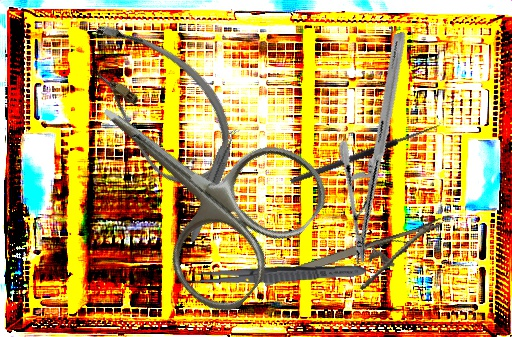Cannula: (51, 4, 257, 202)
Dressing Forceps: (186, 261, 369, 289)
Hook Surgical: (286, 113, 443, 186)
Iris Scissors: (49, 41, 340, 324)
Needle Holder: (288, 31, 471, 265), (261, 217, 455, 317)
Tissue Forceps: (187, 124, 241, 246)
